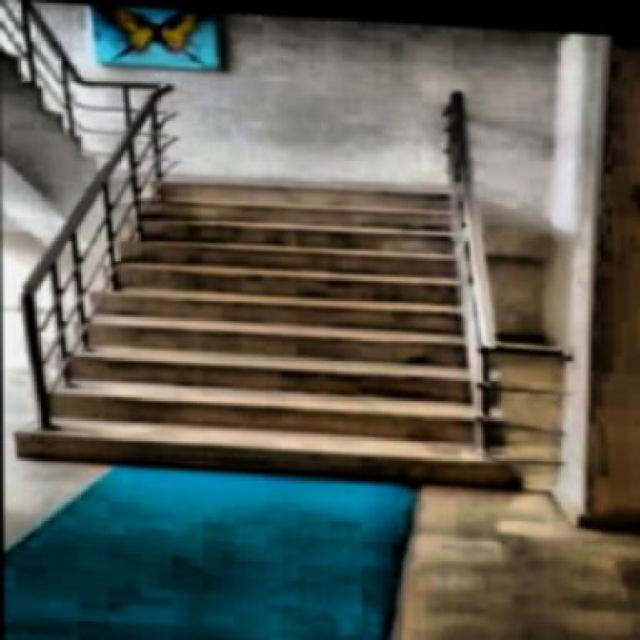stair: (8, 162, 530, 490)
